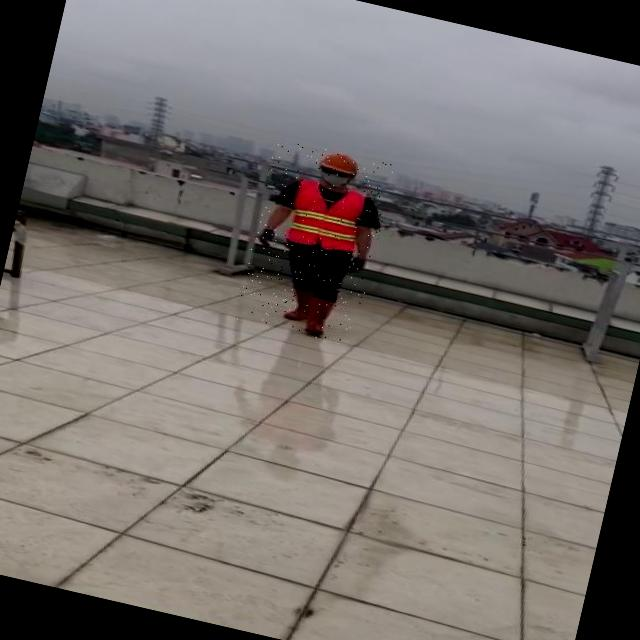boots: (294, 290, 343, 340), (278, 282, 316, 324)
helmet: (316, 148, 363, 178)
vest: (283, 176, 368, 255)
